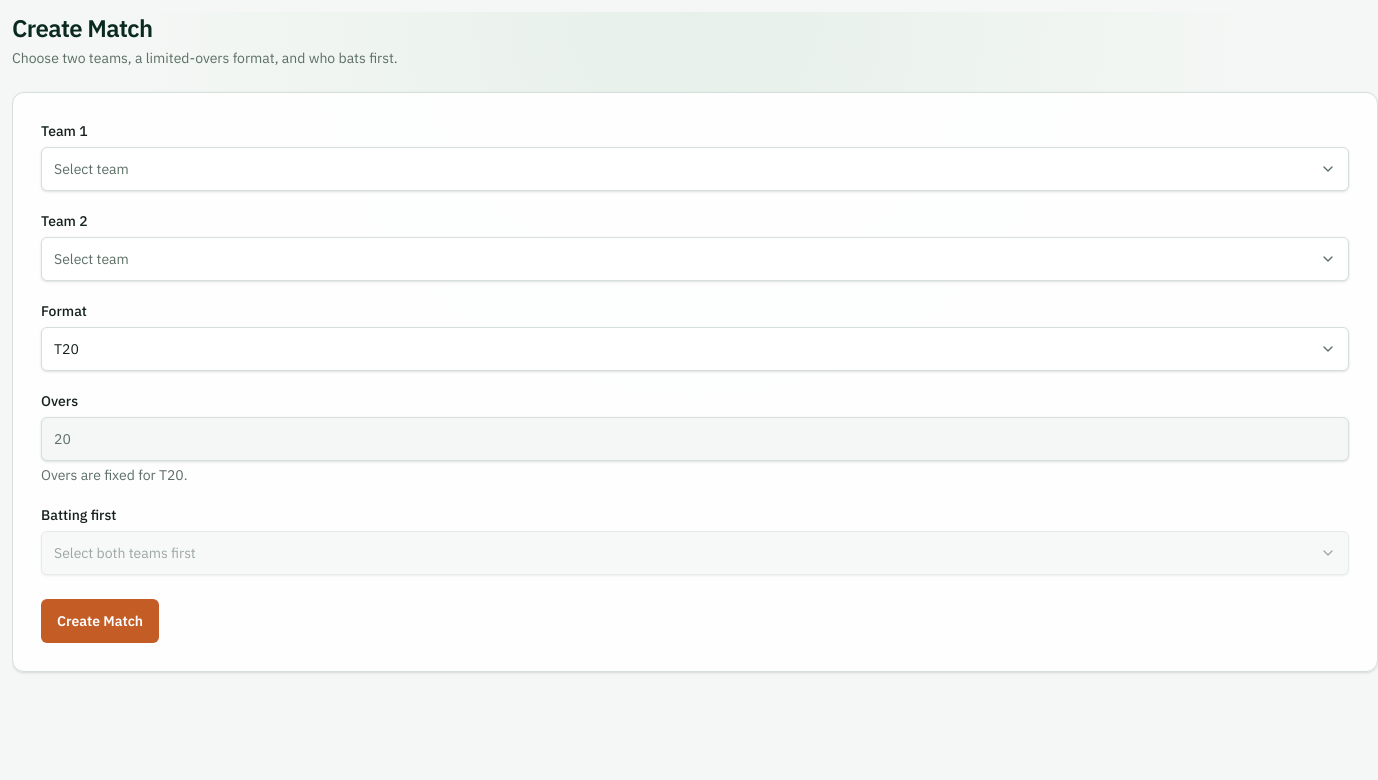
Scenario: CreateMatchForm › renders required fields and creatable formats without TEST
expect the dropdown named "team 1" is shown: met, box x1=41 y1=147 x2=1349 y2=191
expect the dropdown named "team 2" is shown: met, box x1=41 y1=237 x2=1349 y2=281
Click the dropdown named "format" at (66, 349), box x1=41 y1=327 x2=1349 y2=371
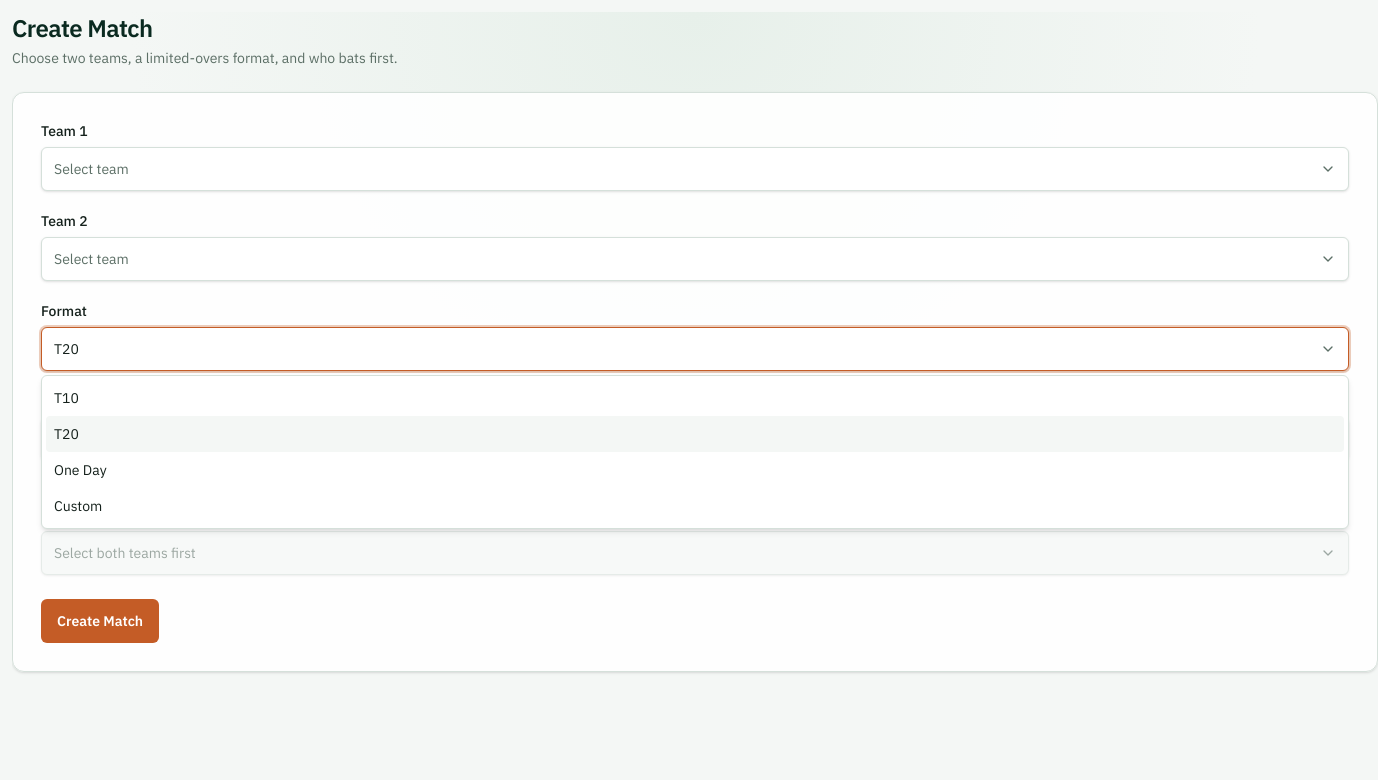
expect the options read "T10", "T20", "One Day", "Custom", in this order: met, box x1=54 y1=389 x2=79 y2=407; x1=46 y1=416 x2=1344 y2=452; x1=54 y1=461 x2=107 y2=479; x1=54 y1=497 x2=102 y2=515
